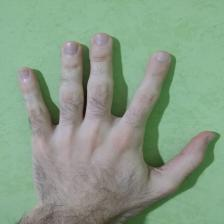five: (16, 31, 216, 208)
